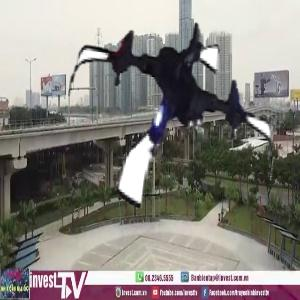drone: (59, 6, 286, 233)
